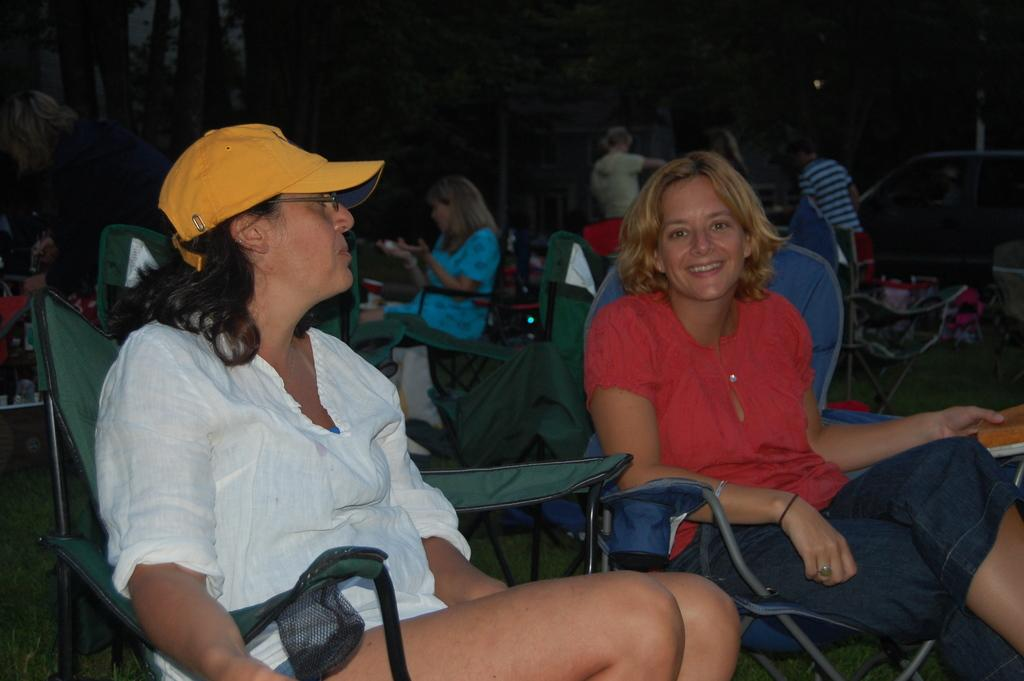Hat: (154, 122, 386, 272)
